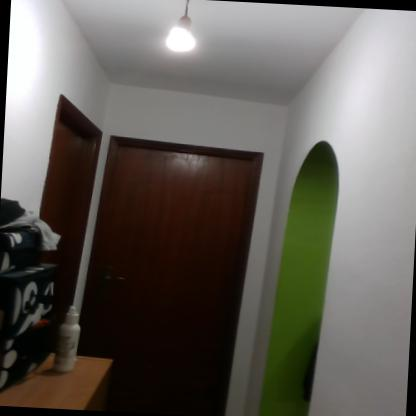closed: (81, 121, 275, 402)
